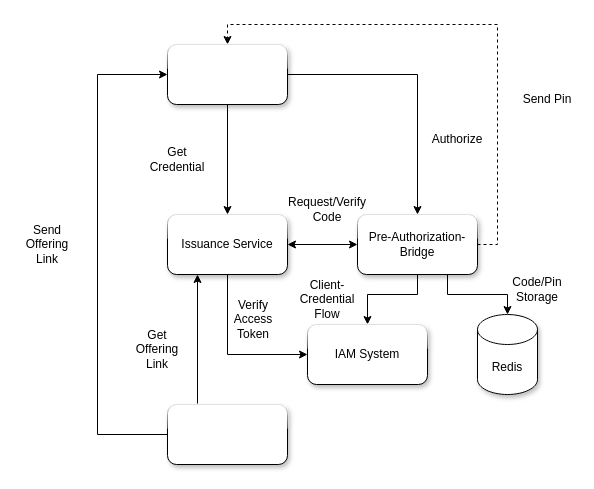
Some shapes in this 594 by 489 pixel diagram are drawn without their labels. Here are the shapes that lost their labels. From the top down, the centre of each, then its label:
(228,76): User
(228,436): Issuing Plugin
